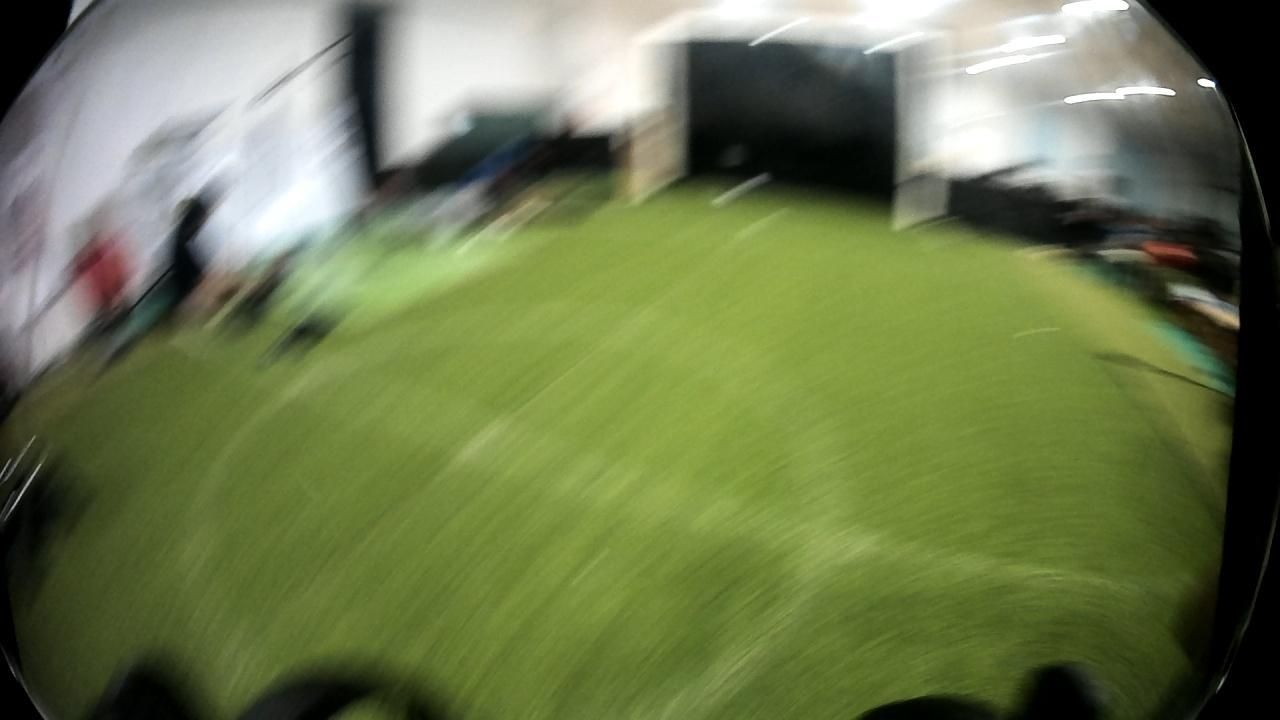ball: (708, 168, 776, 215)
